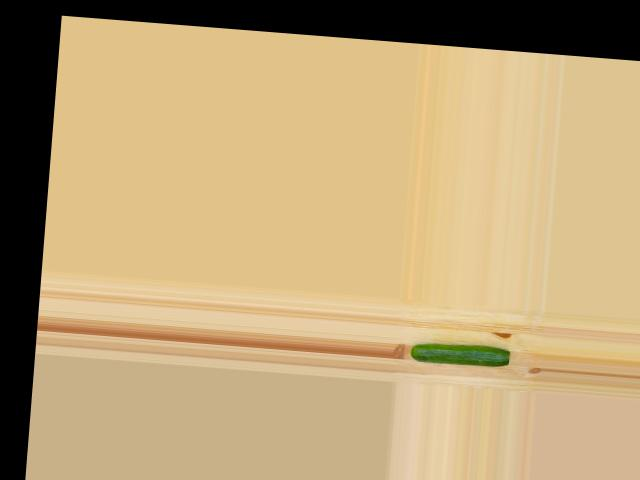cucumber: (409, 340, 509, 368)
